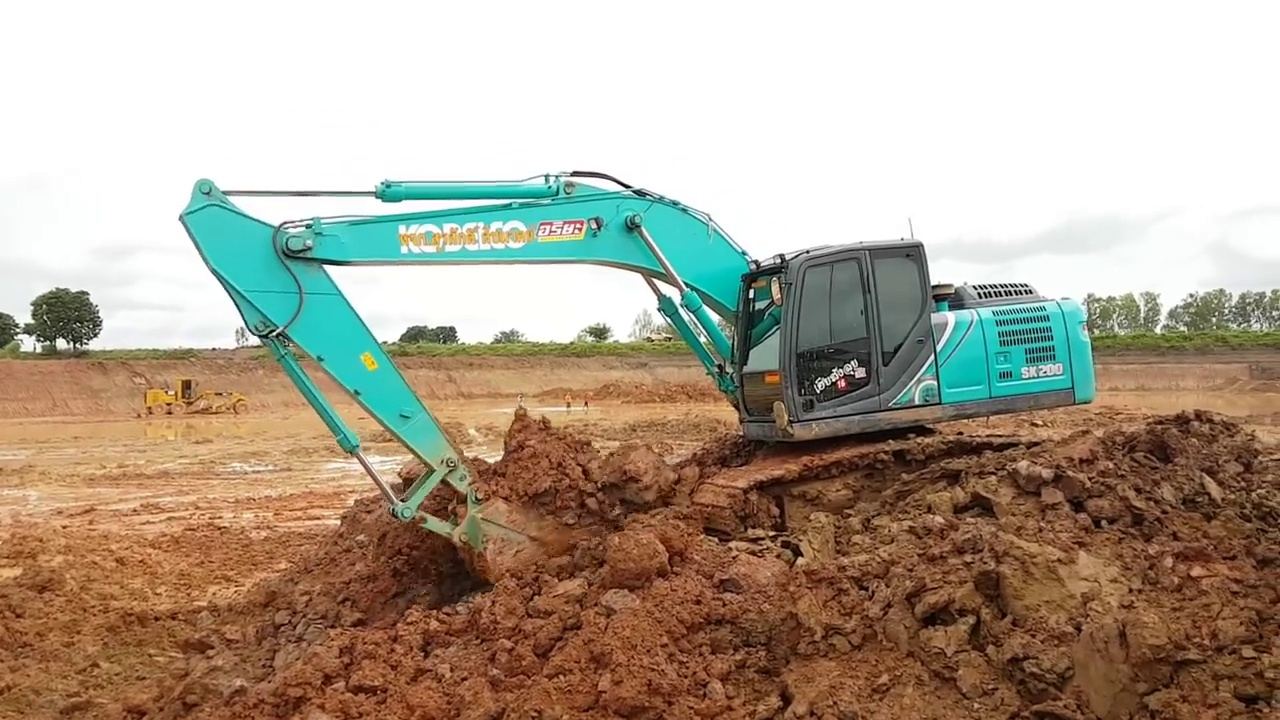excavator: (174, 169, 1101, 590)
roller: (146, 376, 254, 416)
